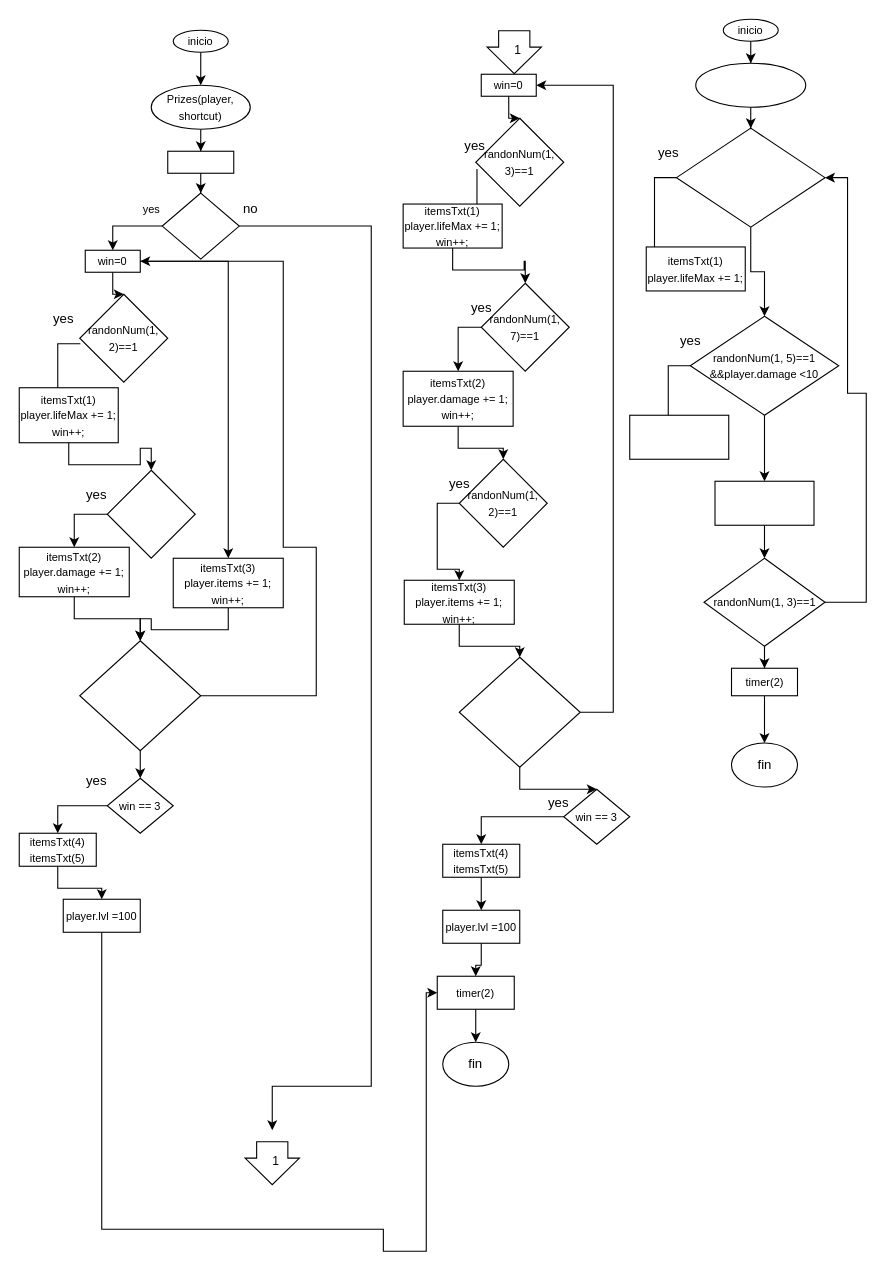
Image size: 894x1279. Some labels were removed from this diagram. Here are the shapes that lost their labels. From the top down, the centre of each, then its label:
At (x=750, y=84): "infinitePrizes(player)".
At (x=200, y=161): "int win".
At (x=750, y=177): "randonNum(1, 3)==1 &&player.life <10".
At (x=200, y=225): "shorcut=true".
At (x=679, y=436): "itemsTxt(2) player.dmage += 1;".
At (x=150, y=513): "randonNum(1, 4)==1".
At (x=764, y=502): "itemsTxt(3) player.items += 1;".
At (x=140, y=695): "randonNum(1, 2)==1 && win != 3".
At (x=519, y=711): "randonNum(1, 3)==1 && win != 3".
